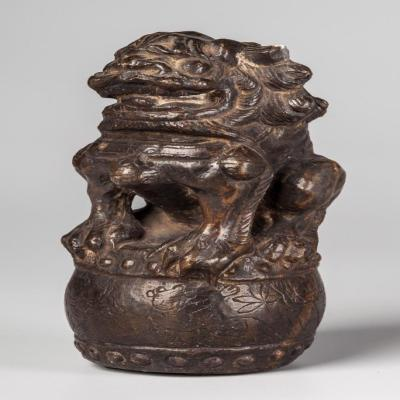sculpture: (60, 32, 347, 377)
